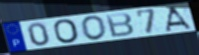0: (27, 21, 52, 47)
7: (134, 8, 158, 35)
A: (164, 5, 194, 32)
B: (104, 12, 136, 38)
O: (79, 14, 108, 41), (52, 18, 82, 44)
